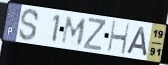1: (51, 14, 62, 44)
A: (124, 25, 148, 57)
H: (107, 20, 131, 56)
M: (60, 15, 89, 47)
S: (17, 7, 41, 42)
Z: (82, 17, 107, 53)
